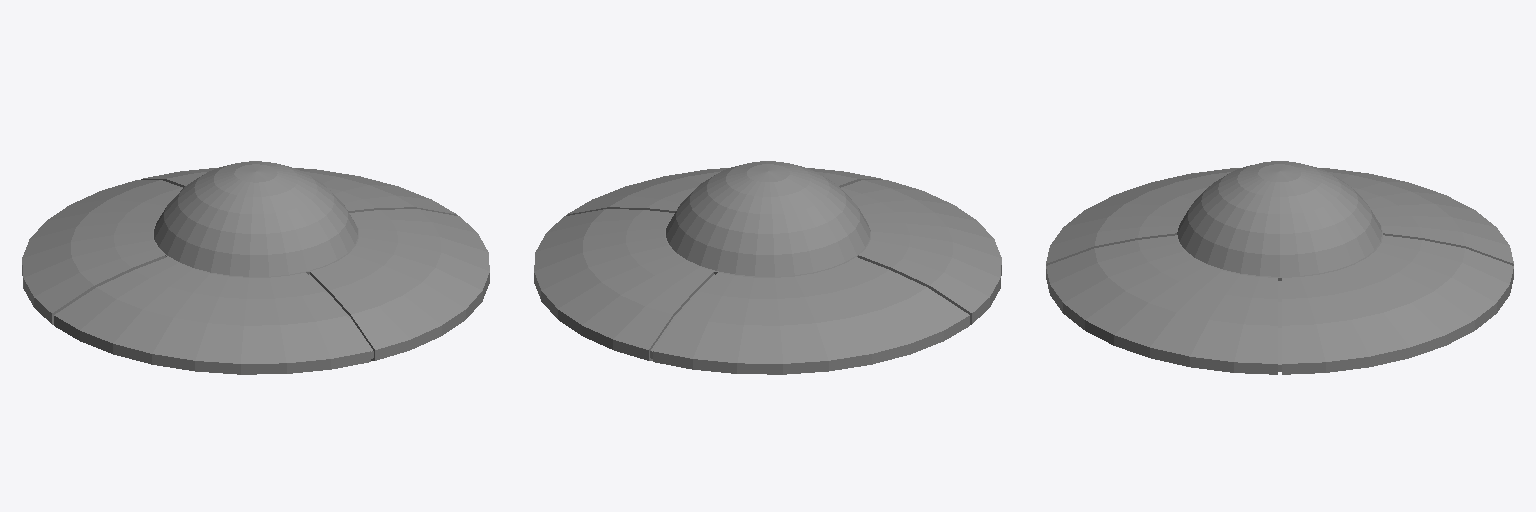
The model's file is ufo.obj.
The picture shows the model from 3 angles: view 1: azimuth 30°, elevation 25°; view 2: azimuth 150°, elevation 25°; view 3: azimuth 270°, elevation 25°; orthographic projection.
Parts seen in each view (by area): view 1: UFO_body, UFO_cockpit; view 2: UFO_body, UFO_cockpit; view 3: UFO_body, UFO_cockpit.
Part boxes in pixels (x1,y1,x2,y2): UFO_body: (22,167,489,374); UFO_cockpit: (154,161,357,276); UFO_body: (534,168,1001,374); UFO_cockpit: (666,161,870,276); UFO_body: (1046,168,1513,374); UFO_cockpit: (1177,161,1381,276).
Size of the model in its own units: 67.87 by 27.04 by 67.87.